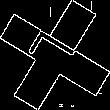L_SE: (26, 29, 84, 81)
